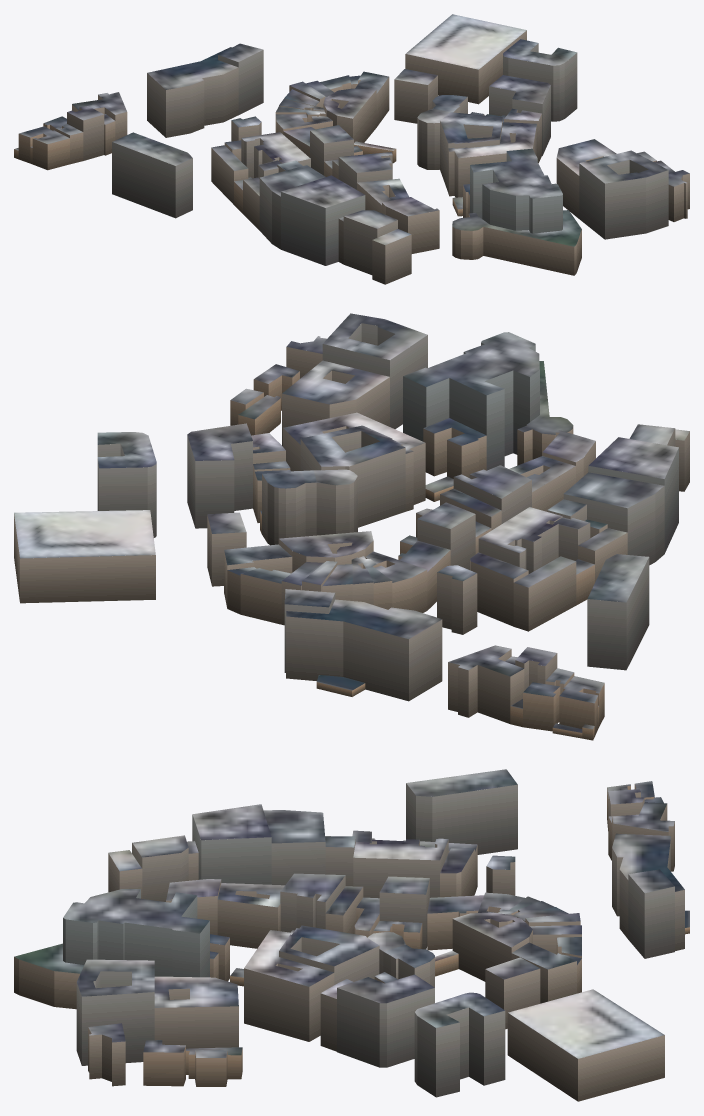
The picture shows the model from 3 angles, top to bottom: view 1: azimuth 30°, elevation 25°; view 2: azimuth 150°, elevation 25°; view 3: azimuth 270°, elevation 25°; orthographic projection. The views are drawn at different scales.
Size of the model in its own units: 217 by 27.66 by 214.
Materials: 2 (2 with a texture image).
